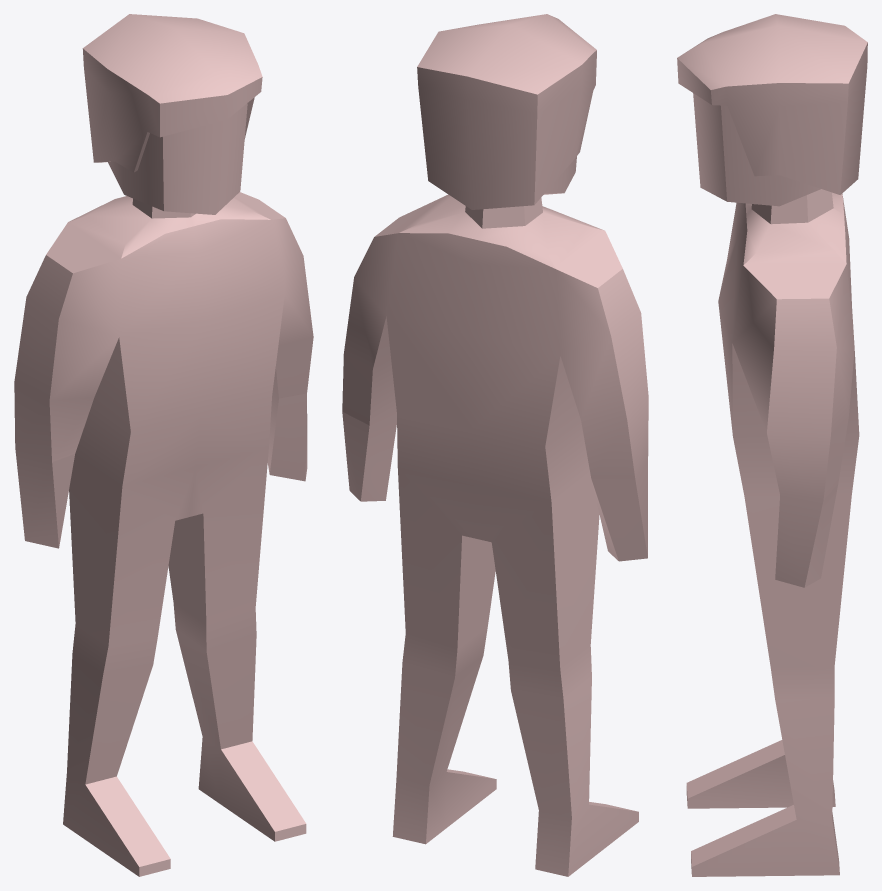
The model's file is Character_4.fbx.
3 views of the same model, side by side, from view 1: azimuth 30°, elevation 25°; view 2: azimuth 150°, elevation 25°; view 3: azimuth 270°, elevation 25° (orthographic).
Parts seen in each view (by area): view 1: Character_4; view 2: Character_4; view 3: Character_4.
Boxes of the visible parts, x1,y1,x2,y2 form: Character_4: (14,14,313,876); Character_4: (342,14,648,876); Character_4: (677,14,867,876).
Bounding box in the file's own units: 55.6 × 147 × 31.45.
